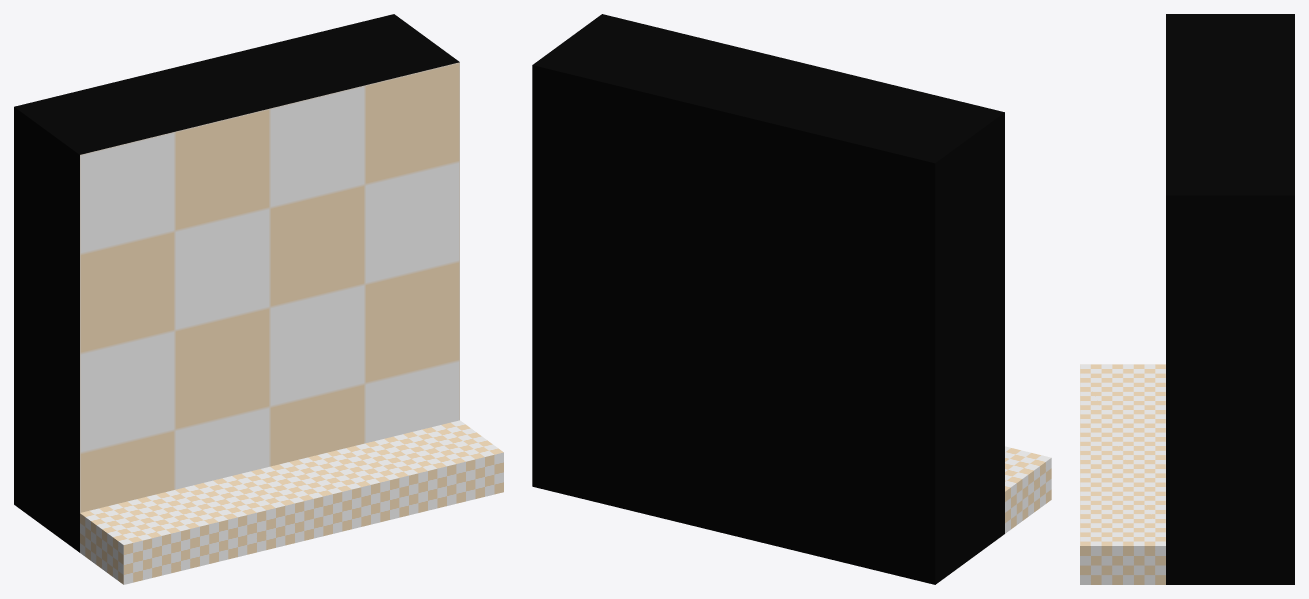
Rendered from Wall_Small.FBX.
3 views of the same model, side by side, from view 1: azimuth 30°, elevation 25°; view 2: azimuth 150°, elevation 25°; view 3: azimuth 270°, elevation 25° (orthographic). The views are drawn at different scales.
Parts seen in each view (by area): view 1: wall_small, Box003; view 2: wall_small, Box003; view 3: wall_small, Box003.
Boxes of the visible parts, <box> form: wall_small: <box>14,14,459,552</box>; Box003: <box>80,420,503,584</box>; wall_small: <box>532,14,1004,584</box>; Box003: <box>1005,446,1051,533</box>; wall_small: <box>1166,14,1294,584</box>; Box003: <box>1080,364,1165,584</box>.
Bounding box in the file's own units: 100 × 100 × 50.
Materials: 2 (2 with a texture image).
